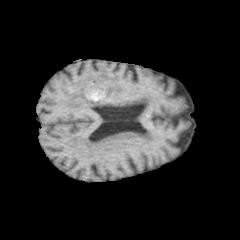glioma: (65, 65, 123, 108)
